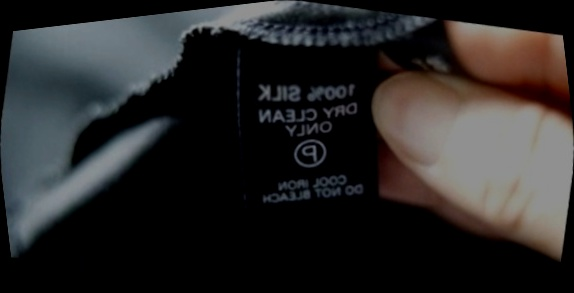dry_clean_any_solvent_except_trichloroethylene: (283, 128, 335, 177)
